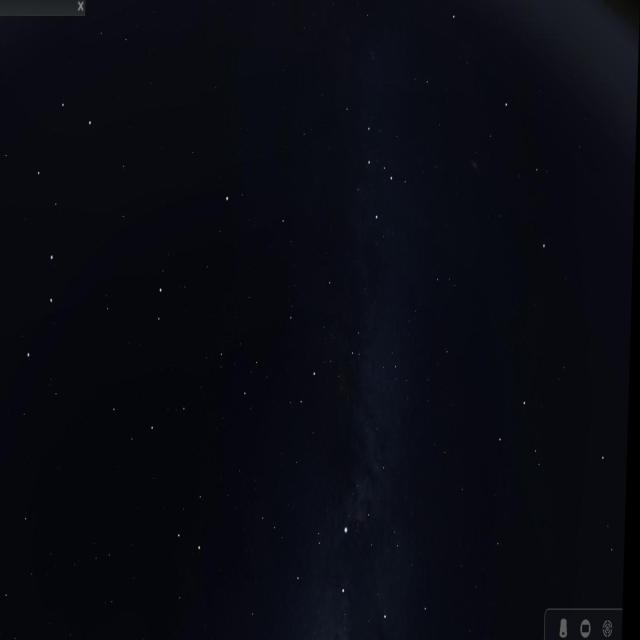cassiopeia: (326, 89, 425, 234)
cygnus: (289, 485, 398, 637)
ursa_major: (20, 89, 96, 378)
